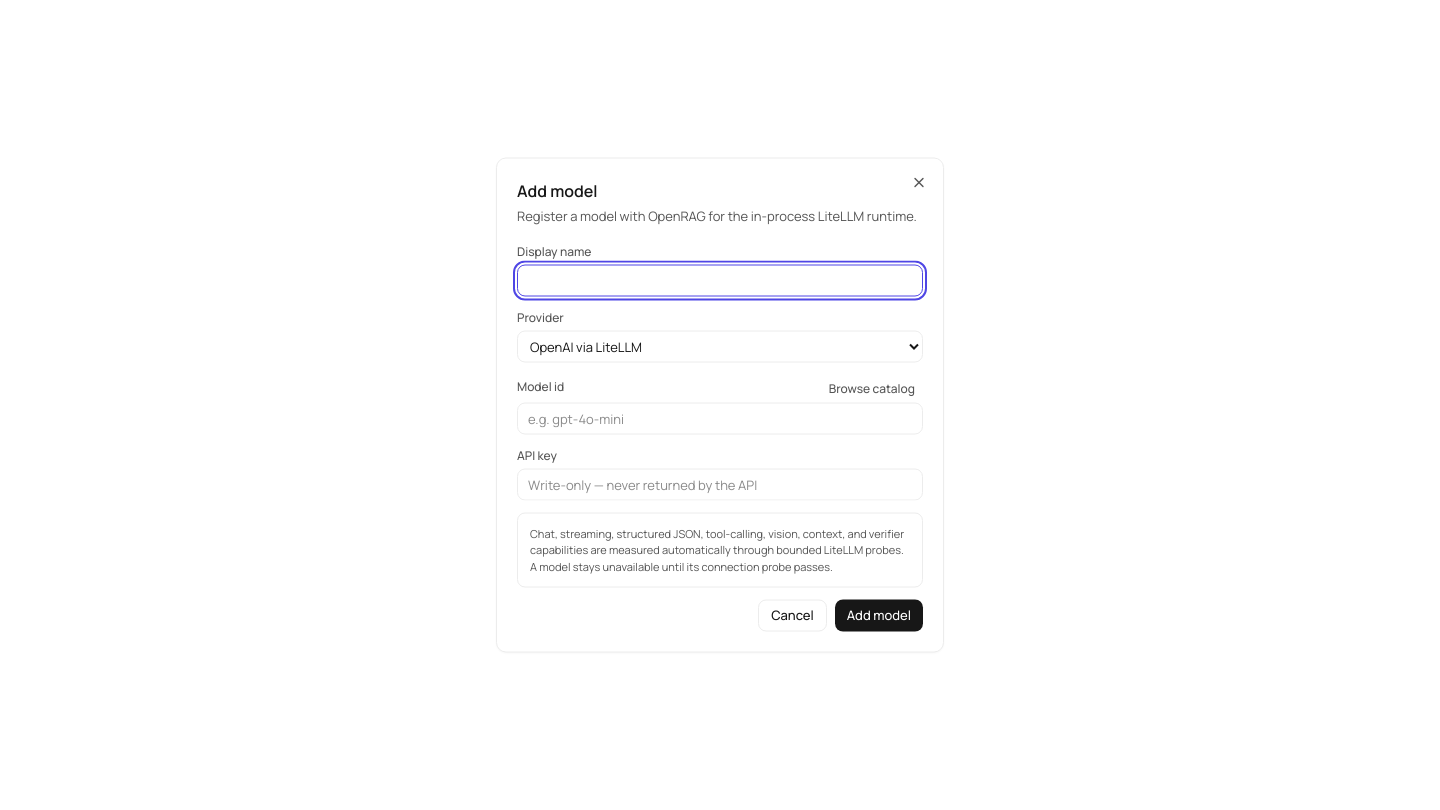
Test: selects a searchable catalog preset as a native LiteLLM model
The image size is (1440, 810).
Click the button "Browse catalog": (872,388) [821,374,923,402]
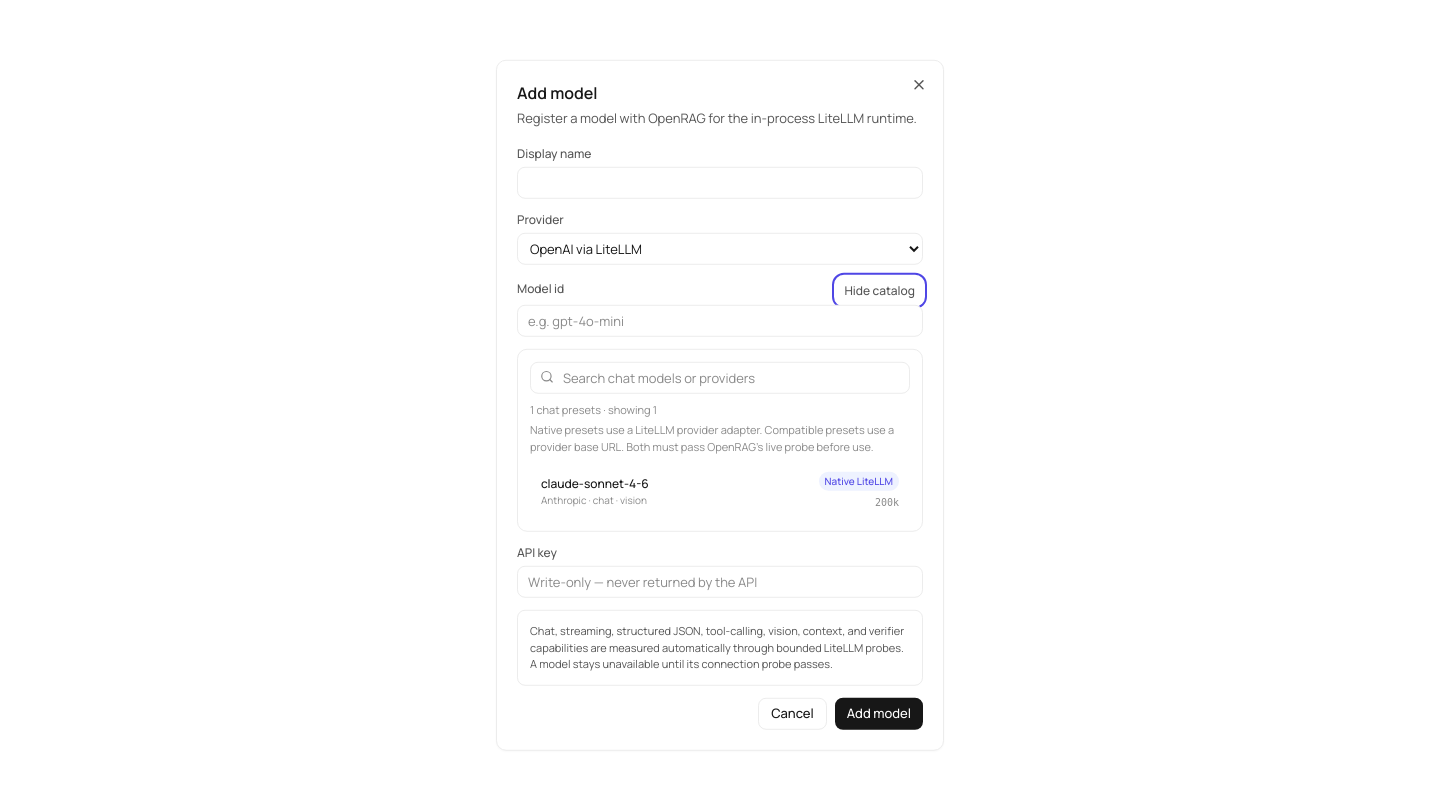
Now the text "Native LiteLLM" is shown, box [819,472,899,491]
Click the button "claude-sonnet-4-6": (595,483) [530,463,910,519]
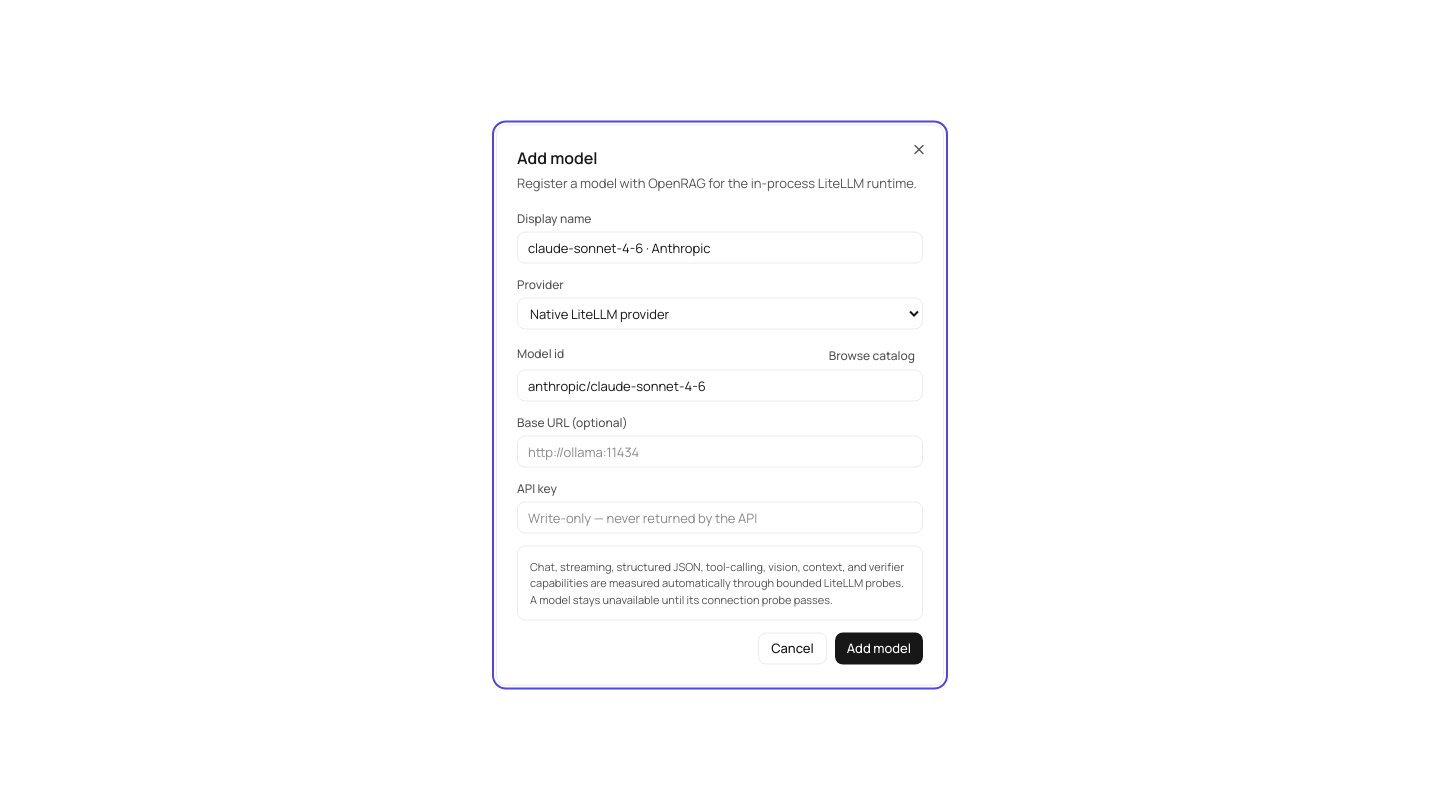
Now the dropdown labelled "Provider" shows "Native LiteLLM provider", box [517,297,923,329]
Now the field labelled "Model id" holds "anthropic/claude-sonnet-4-6", box [517,369,923,401]
Now the field labelled "Display name" holds "claude-sonnet-4-6 · Anthropic", box [517,231,923,263]
